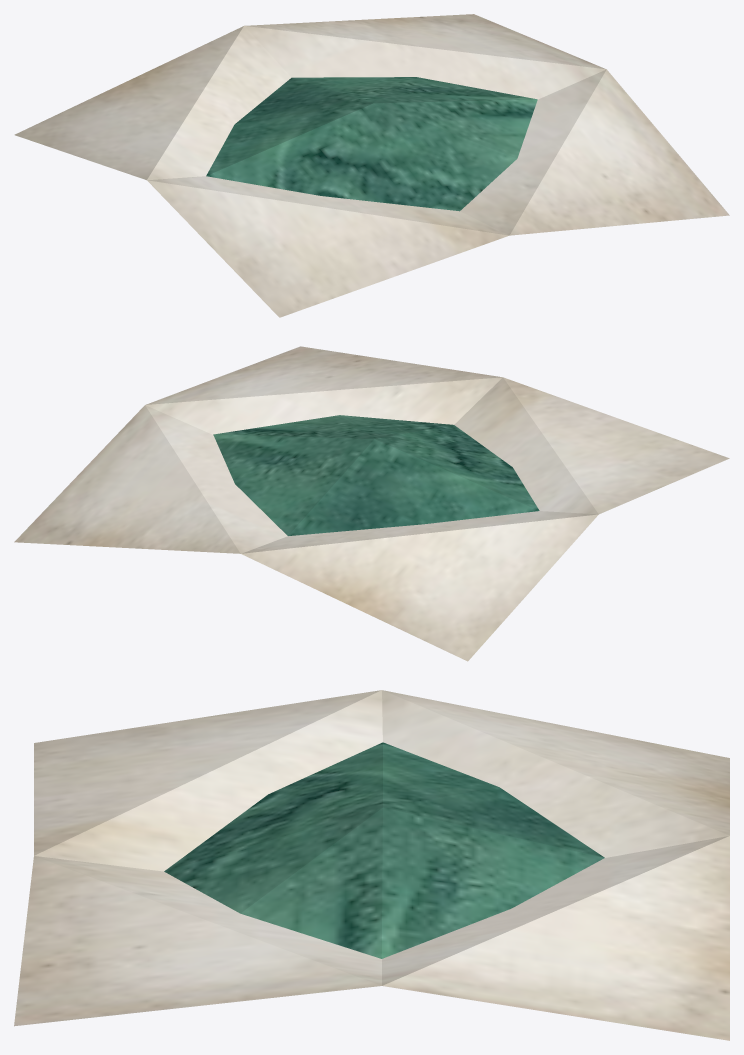
The model's file is Green_Powder.fbx.
3 renders of one model, top to bottom at view 1: azimuth 30°, elevation 25°; view 2: azimuth 150°, elevation 25°; view 3: azimuth 270°, elevation 25°, orthographic. The views are drawn at different scales.
Parts seen in each view (by area): view 1: Plane; view 2: Plane; view 3: Plane.
Part boxes in pixels (x1=…): Plane: x1=14, y1=14, x2=729, y2=317; Plane: x1=14, y1=346, x2=729, y2=661; Plane: x1=14, y1=690, x2=729, y2=1040.
Size of the model in its own units: 200 by 30.38 by 206.
1 material, 1 textured.
